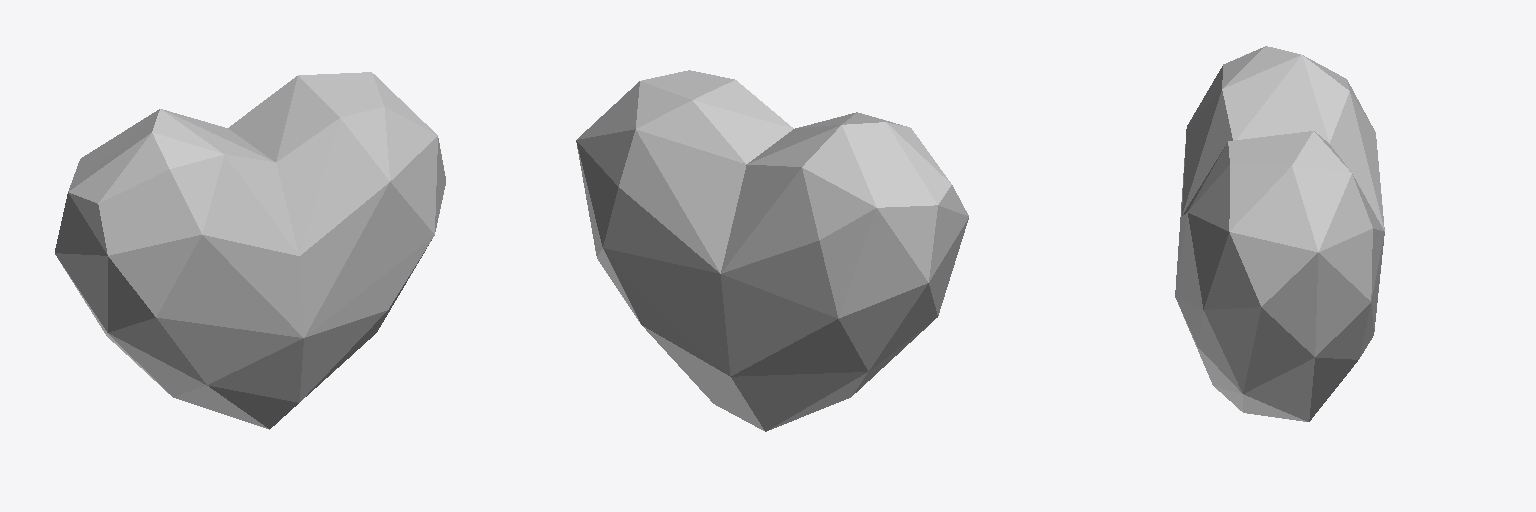
Rendered from Heart.obj.
3 views of the same model, side by side, from view 1: azimuth 30°, elevation 25°; view 2: azimuth 150°, elevation 25°; view 3: azimuth 270°, elevation 25° (orthographic).
Visible parts, largest first — view 1: Heart_Love; view 2: Heart_Love; view 3: Heart_Love.
Part boxes in pixels (x1,y1,x2,y2): Heart_Love: (55,72,445,429); Heart_Love: (576,70,968,431); Heart_Love: (1175,46,1384,421).
Bounding box in the file's own units: 80.04 × 67.52 × 40.15.